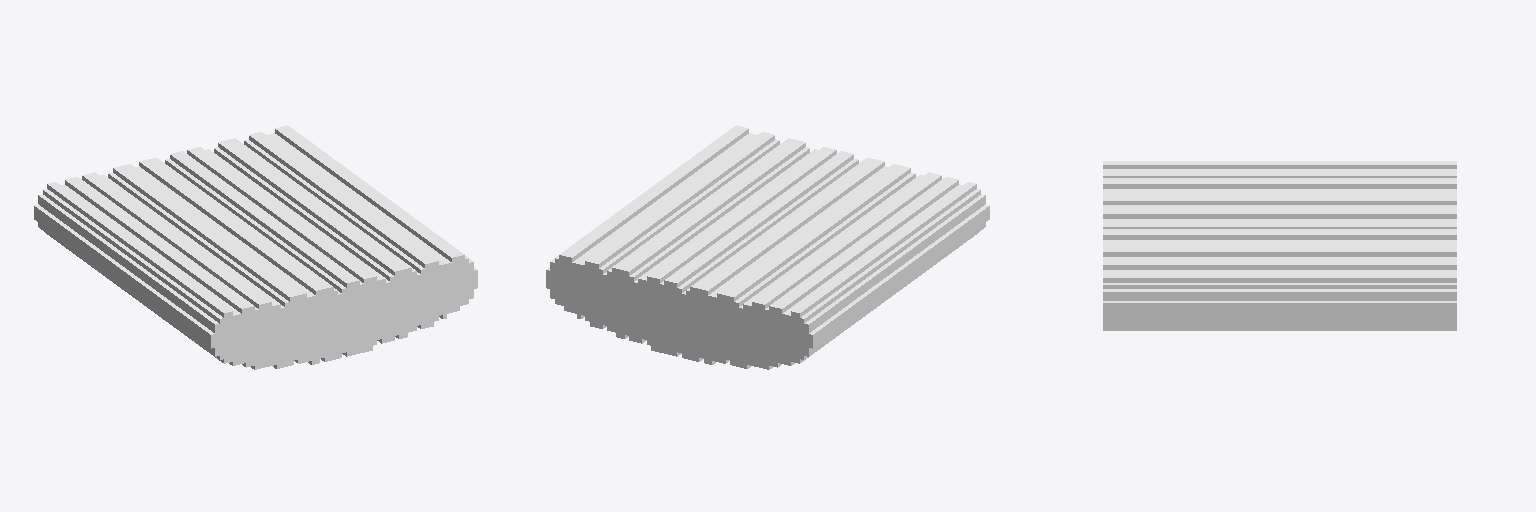
Rendered from FloatingPlatformV1.obj.
3 renders of one model, left to right at view 1: azimuth 30°, elevation 25°; view 2: azimuth 150°, elevation 25°; view 3: azimuth 270°, elevation 25°, orthographic.
Parts seen in each view (by area): view 1: object 1; view 2: object 1; view 3: object 1.
Boxes of the visible parts, x1,y1,x2,y2 form: object 1: [34, 125, 477, 369]; object 1: [546, 125, 989, 369]; object 1: [1103, 161, 1456, 330].
Size of the model in its own units: 6.1 by 1.6 by 7.